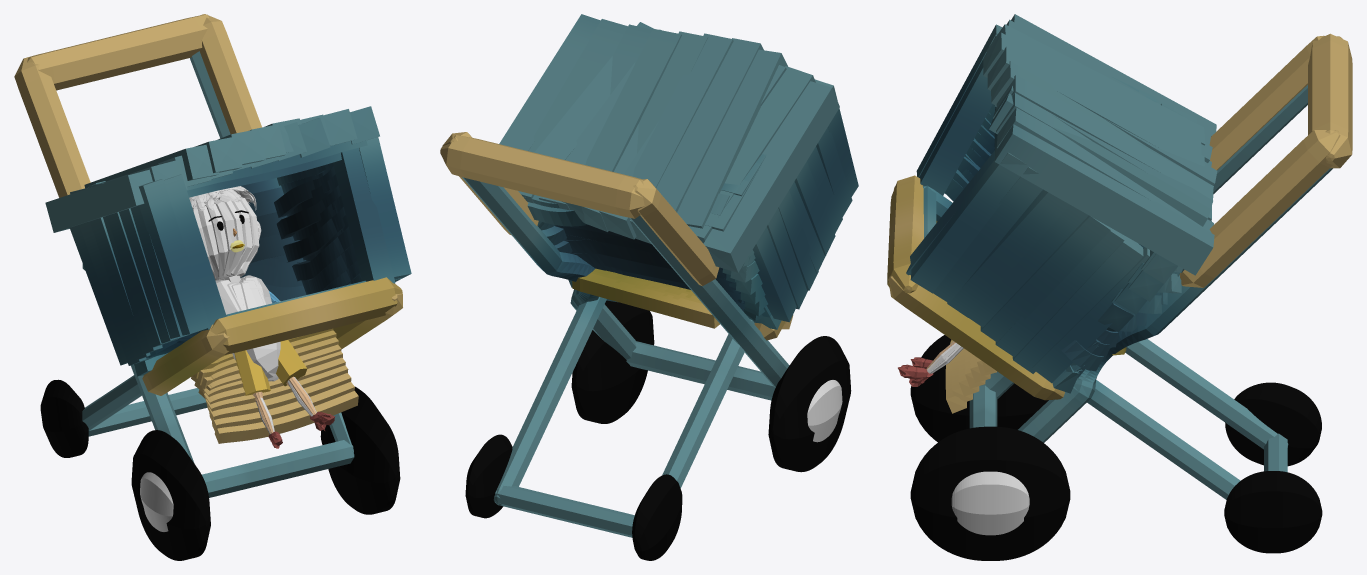
File: Baby.fbx
3 renders of one model, left to right at view 1: azimuth 30°, elevation 25°; view 2: azimuth 150°, elevation 25°; view 3: azimuth 270°, elevation 25°, orthographic. The views are drawn at different scales.
Parts seen in each view (by area): view 1: Car, Ear, Leg (×2), Chest, Hip, Hair, Feet; view 2: Car; view 3: Car, Feet.
Part boxes in pixels (x1,y1,x2,y2): Car: (14, 14, 411, 560); Ear: (192, 192, 261, 280); Leg (×2): (234, 340, 307, 400); Chest: (215, 275, 271, 314); Hip: (232, 342, 280, 381); Hair: (189, 186, 256, 210); Feet: (289, 377, 335, 430); Car: (440, 14, 858, 560); Car: (887, 14, 1352, 560); Feet: (898, 341, 955, 386).
Size of the model in its own units: 2.43 by 3.63 by 3.45.
